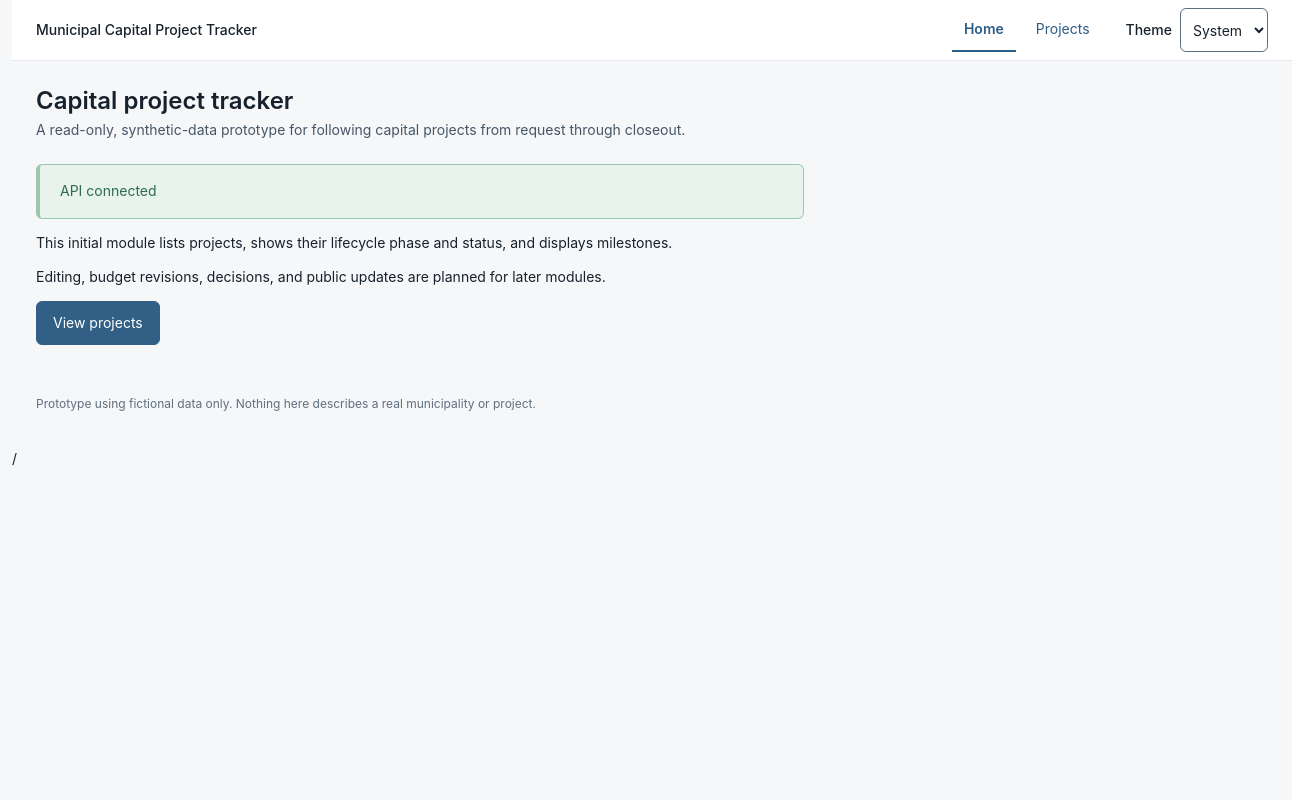
Test: shell › marks the current page and moves focus to the new heading after navigation, but not on first load
The width and height of the screenshot is (1292, 800).
Click the link "Projects": click(1063, 28) [1036,20,1090,37]
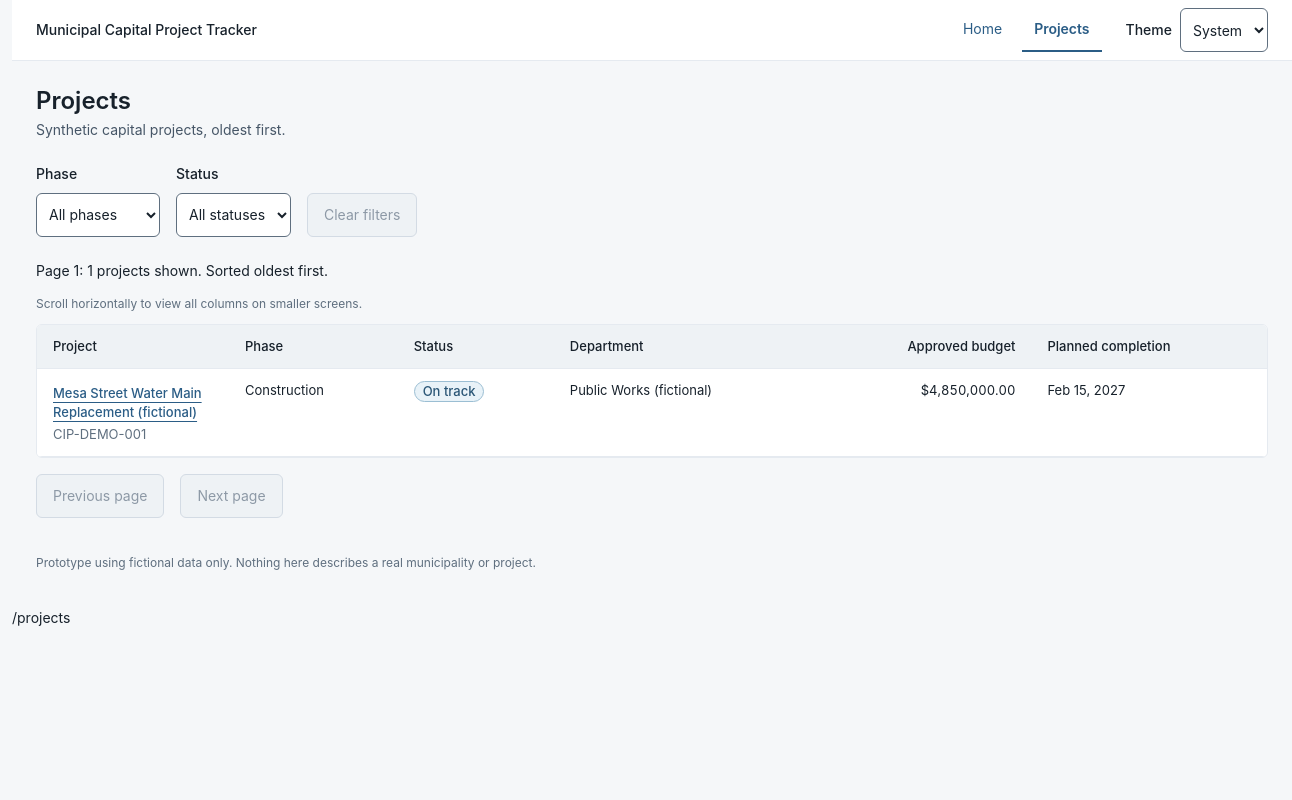
Check: the text with test id "location" reads "/projects", box [12,608,70,626]
